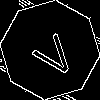V: (25, 25, 80, 82)
